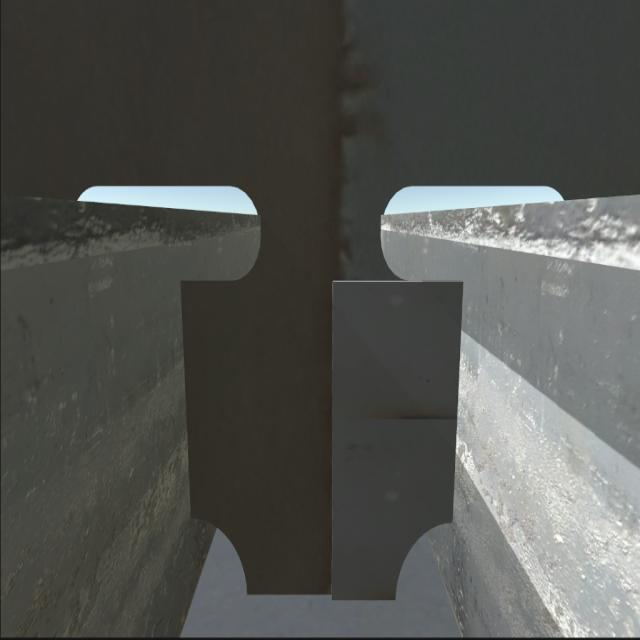fillet_hole: (391, 520, 451, 602), (190, 516, 248, 594)
fillet_yong_jeop_jang: (244, 584, 401, 613)
longi_yong_jeop_jang: (176, 274, 210, 524), (441, 278, 467, 534)
plate_CP01: (326, 280, 460, 603)
